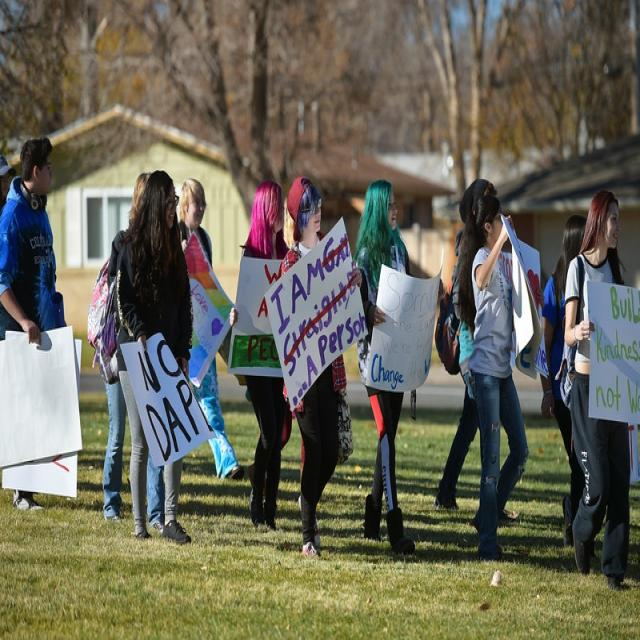body: (342, 175, 447, 560), (453, 186, 549, 572), (273, 173, 364, 564), (563, 187, 639, 596), (113, 167, 194, 546), (0, 132, 70, 513), (96, 168, 167, 536), (431, 176, 501, 516), (177, 176, 246, 484), (239, 178, 293, 530), (539, 212, 588, 552), (0, 140, 17, 220), (0, 470, 10, 496)
